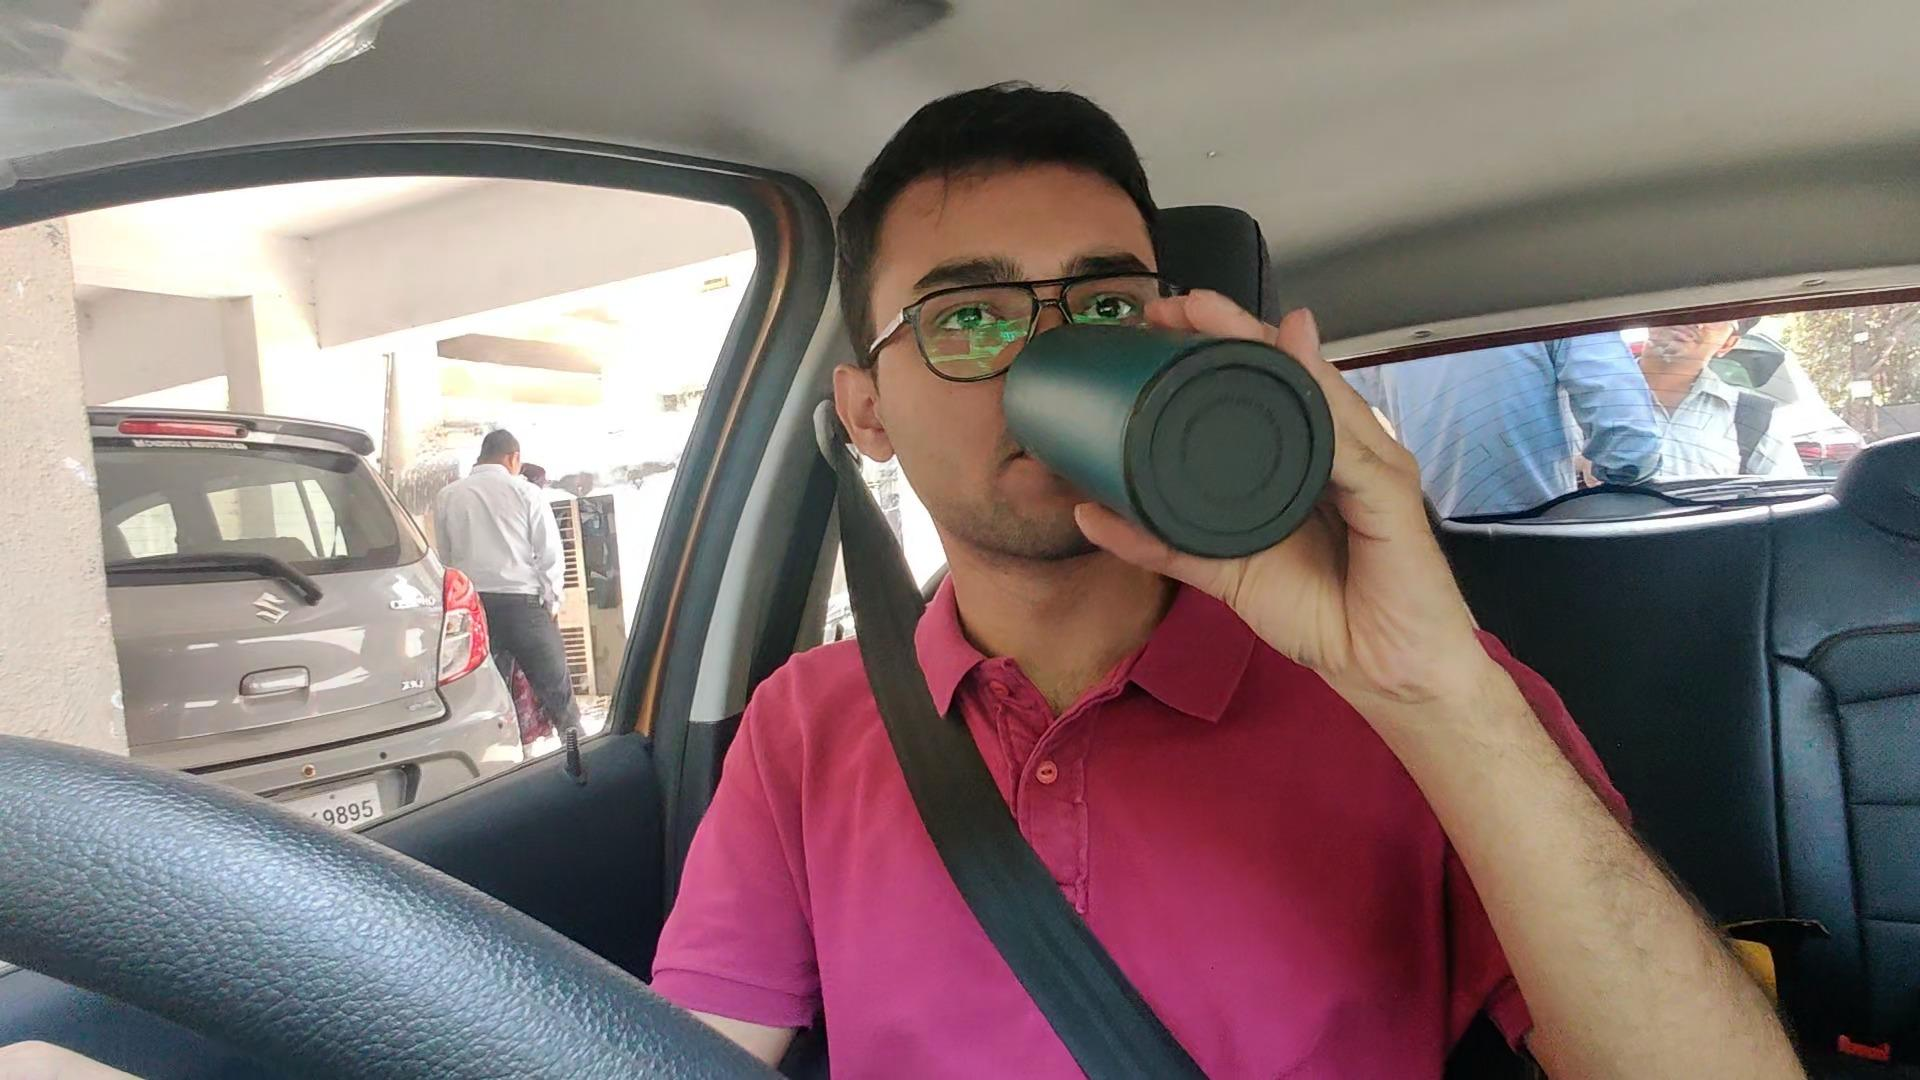Drinking: (829, 171, 1410, 600)
